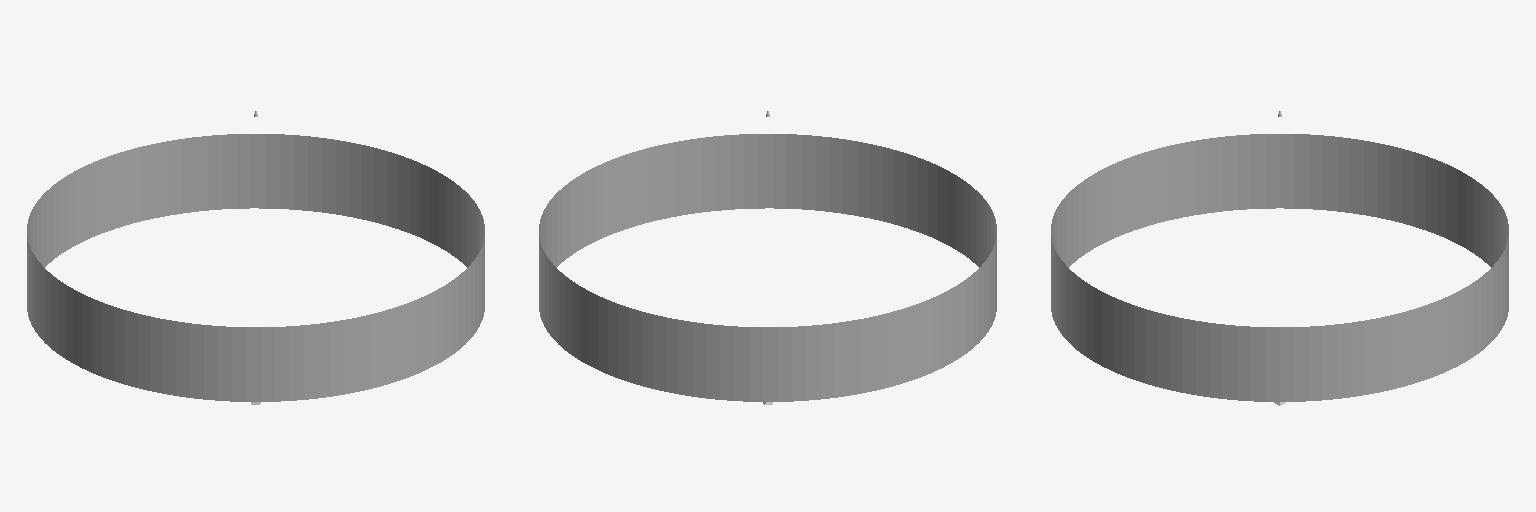
Rendered from range.obj.
3 renders of one model, left to right at view 1: azimuth 30°, elevation 25°; view 2: azimuth 150°, elevation 25°; view 3: azimuth 270°, elevation 25°, orthographic.
Visible parts, largest first — view 1: LQ-Wall_Cylinder; view 2: LQ-Wall_Cylinder; view 3: LQ-Wall_Cylinder.
Boxes of the visible parts, x1,y1,x2,y2 form: LQ-Wall_Cylinder: [27, 134, 484, 401]; LQ-Wall_Cylinder: [539, 134, 996, 401]; LQ-Wall_Cylinder: [1051, 134, 1508, 401].
Bounding box in the file's own units: 3 × 2.12 × 3.